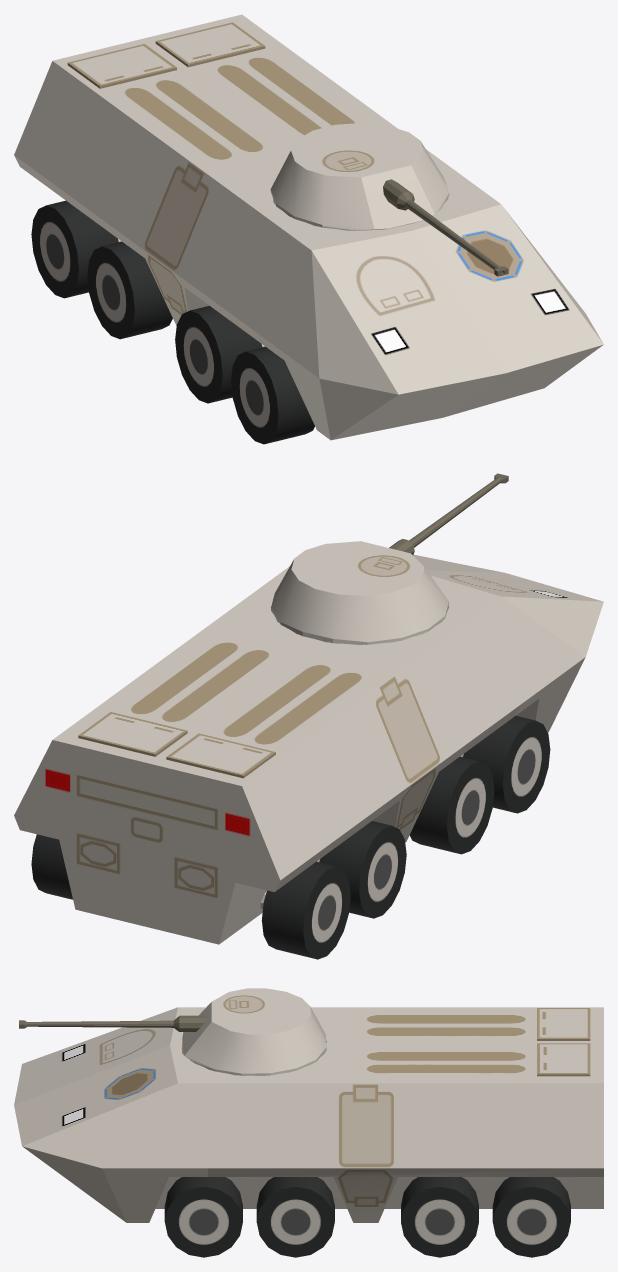
Rendered from APC_03.fbx.
The picture shows the model from 3 angles, top to bottom: view 1: azimuth 30°, elevation 25°; view 2: azimuth 150°, elevation 25°; view 3: azimuth 270°, elevation 25°; orthographic projection. The views are drawn at different scales.
Visible parts, largest first — view 1: APC_03_Body, APC_03_UpperBody, APC_03_Wheel06, APC_03_Wheel01, APC_03_Wheel04, APC_03_Wheel08, APC_03_MainGun; view 2: APC_03_Body, APC_03_UpperBody, APC_03_Wheel08, APC_03_Wheel04, APC_03_Wheel06, APC_03_Wheel01, APC_03_Wheel07, APC_03_MainGun; view 3: APC_03_Body, APC_03_UpperBody, APC_03_Wheel03, APC_03_Wheel07, APC_03_Wheel02, APC_03_Wheel05, APC_03_MainGun.
Boxes of the visible parts, bbox=[...] form: APC_03_Body: bbox=[14, 14, 603, 440]; APC_03_UpperBody: bbox=[270, 123, 449, 230]; APC_03_Wheel06: bbox=[87, 241, 172, 339]; APC_03_Wheel01: bbox=[231, 346, 314, 444]; APC_03_Wheel04: bbox=[175, 306, 262, 403]; APC_03_Wheel08: bbox=[31, 200, 118, 298]; APC_03_MainGun: bbox=[383, 179, 508, 276]; APC_03_Body: bbox=[14, 554, 603, 944]; APC_03_UpperBody: bbox=[271, 541, 448, 644]; APC_03_Wheel08: bbox=[261, 861, 350, 959]; APC_03_Wheel04: bbox=[409, 756, 494, 854]; APC_03_Wheel06: bbox=[319, 821, 406, 918]; APC_03_Wheel01: bbox=[463, 716, 550, 813]; APC_03_Wheel07: bbox=[31, 834, 72, 899]; APC_03_MainGun: bbox=[389, 473, 508, 555]; APC_03_Body: bbox=[14, 1007, 603, 1222]; APC_03_UpperBody: bbox=[182, 988, 326, 1075]; APC_03_Wheel03: bbox=[256, 1177, 334, 1257]; APC_03_Wheel07: bbox=[492, 1177, 570, 1257]; APC_03_Wheel02: bbox=[164, 1177, 242, 1257]; APC_03_Wheel05: bbox=[401, 1177, 478, 1257]; APC_03_MainGun: bbox=[19, 1015, 206, 1031].
Bounding box in the file's own units: 24.76 × 20.3 × 56.65.
